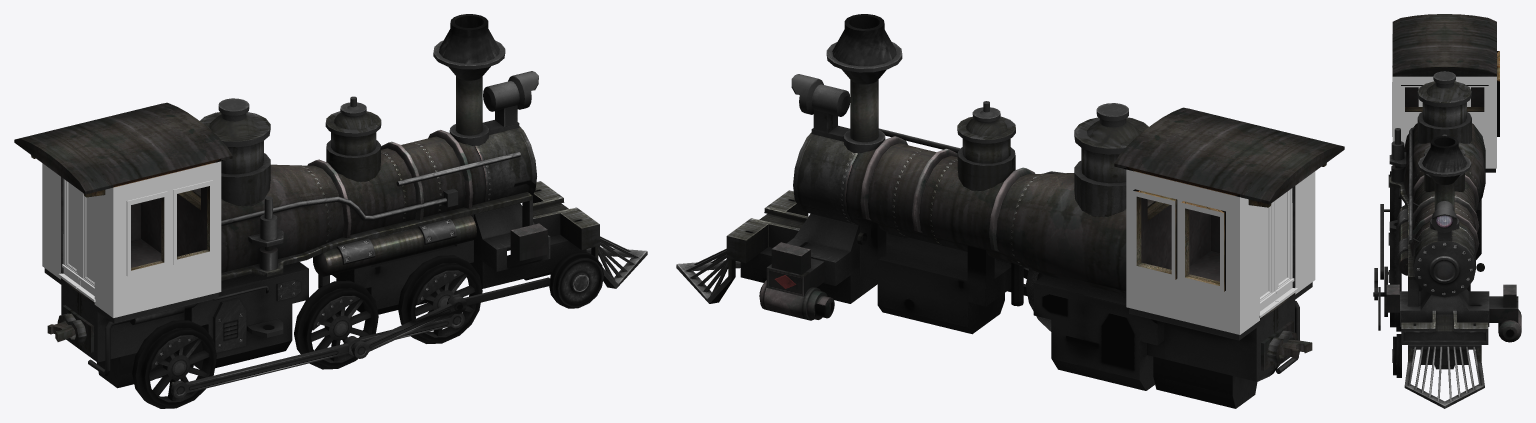
Rendered from Locomotive_Fix_v01.fbx.
3 views of the same model, side by side, from view 1: azimuth 30°, elevation 25°; view 2: azimuth 150°, elevation 25°; view 3: azimuth 270°, elevation 25° (orthographic). The views are drawn at different scales.
Visible parts, largest first — view 1: Cube.226, Cube.218, Plane.090; view 2: Cube.226, Cube.218, Plane.090; view 3: Cube.226, Cube.218.
Part boxes in pixels (x1,y1,x2,y2): Cube.226: [31, 14, 647, 408]; Cube.218: [14, 102, 232, 317]; Plane.090: [58, 179, 95, 302]; Cube.226: [676, 14, 1326, 408]; Cube.218: [1114, 107, 1344, 334]; Plane.090: [1259, 188, 1297, 317]; Cube.226: [1373, 71, 1521, 408]; Cube.218: [1392, 14, 1499, 168].
Bounding box in the file's own units: 1448 × 655 × 423.
